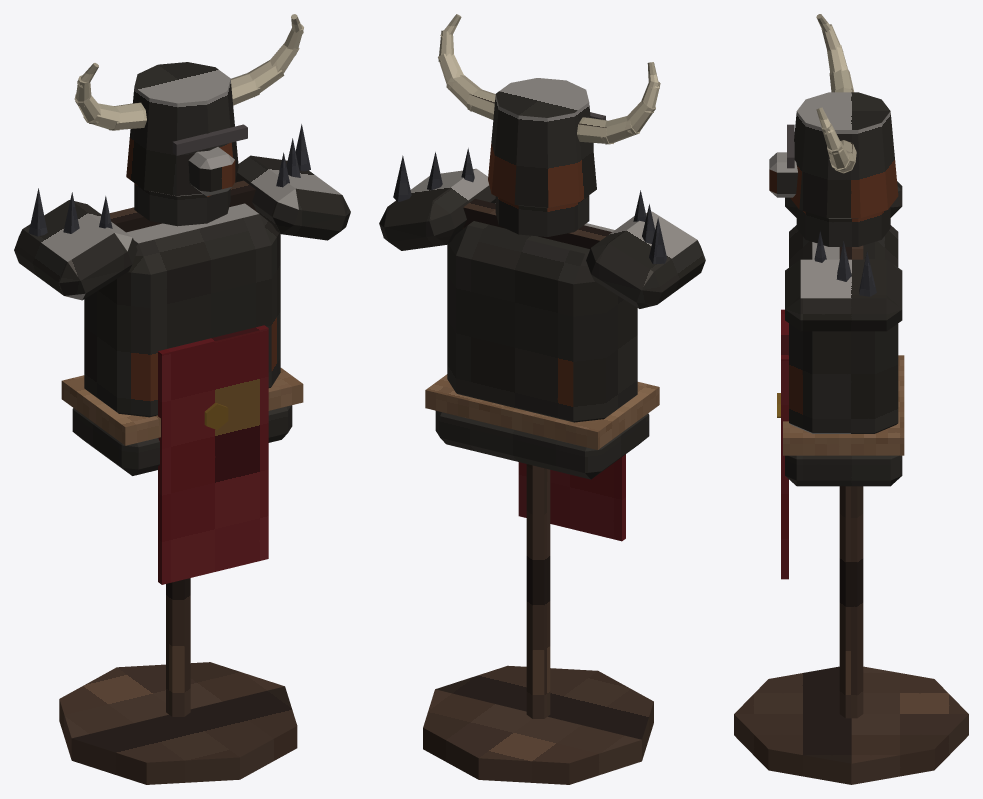
The model's file is guard_armor.glb.
3 renders of one model, left to right at view 1: azimuth 30°, elevation 25°; view 2: azimuth 150°, elevation 25°; view 3: azimuth 270°, elevation 25°, orthographic. The views are drawn at different scales.
Parts seen in each view (by area): view 1: body; view 2: body; view 3: body.
Boxes of the visible parts, <box> form: body: <box>14,14,350,784</box>; body: <box>379,14,705,784</box>; body: <box>734,14,968,784</box>.
Bounding box in the file's own units: 0.8204 × 1.9 × 0.6.
8 materials, 7 textured.
